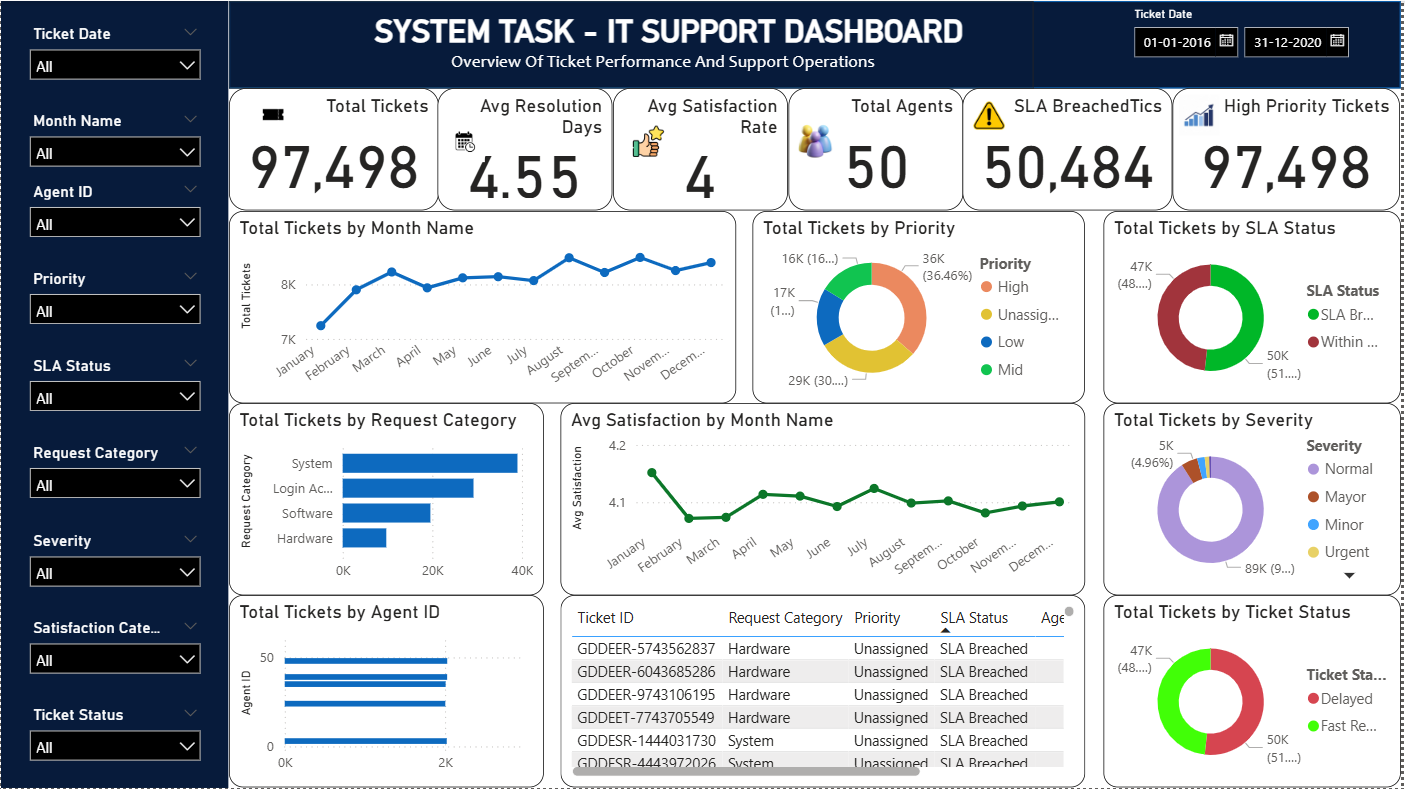

What the dashboard file says about the page in this screenshot:
{"tool":"powerbi","page":{"name":"Page 1","canvas":[1280,720],"ordinal":0},"visuals":[{"type":"shape","box":[208,0,1072,80],"z":0},{"type":"shape","box":[0,0,208,720],"z":1000},{"type":"card","title":"Total Tickets","fields":{"Values":["Tickets1.Total Tickets"]},"box":[208,80,192,112],"z":2000},{"type":"card","title":"Avg Resolution Days","fields":{"Values":["Tickets1.Avg Resolution Days"]},"box":[400,80,160,112],"z":3000},{"type":"card","title":"Avg Satisfaction Rate","fields":{"Values":["Tickets1.Avg Satisfaction"]},"box":[560,80,160,112],"z":4000},{"type":"card","title":"Total Agents","fields":{"Values":["Tickets1.Total Agents"]},"box":[720,80,160,112],"z":5000},{"type":"card","title":"SLA  BreachedTics","fields":{"Values":["Tickets1.SLA Breached Tickets"]},"box":[880,80,192,112],"z":6000},{"type":"lineChart","fields":{"Category":["Tickets1.Month Name"],"Y":["Tickets1.Total Tickets"]},"box":[208,192,464,176],"z":7000},{"type":"donutChart","fields":{"Y":["Tickets1.Total Tickets"],"Category":["Tickets1.Priority "]},"box":[688,192,304,176],"z":8000},{"type":"donutChart","fields":{"Category":["Tickets1.SLA Status"],"Y":["Tickets1.Total Tickets"]},"box":[1008,192,272,176],"z":9000},{"type":"clusteredBarChart","fields":{"Category":["Tickets1.Request Category"],"Y":["Tickets1.Total Tickets"]},"box":[208,368,288,176],"z":10000},{"type":"lineChart","fields":{"Category":["Tickets1.Month Name"],"Y":["Tickets1.Avg Satisfaction"]},"box":[512,368,480,176],"z":11000},{"type":"donutChart","fields":{"Category":["Tickets1.Severity"],"Y":["Tickets1.Total Tickets"]},"box":[1008,368,272,176],"z":12000},{"type":"donutChart","fields":{"Category":["Tickets1.Ticket Status"],"Y":["Tickets1.Total Tickets"]},"box":[1008,544,272,176],"z":13000},{"type":"tableEx","fields":{"Values":["Tickets1.Ticket ID","Tickets1.Request Category","Tickets1.Priority ","Tickets1.SLA Status","IT_Agents.Agent ID","Tickets1.Ticket Date.Variation.Date Hierarchy.Year","Tickets1.Ticket Date.Variation.Date Hierarchy.Month","Tickets1.Ticket Date.Variation.Date Hierarchy.Day"]},"box":[512,544,480,176],"z":14000},{"type":"card","title":"High Priority Tickets","fields":{"Values":["Tickets1.High Priority Tickets"]},"box":[1072,80,208,112],"z":15000},{"type":"slicer","fields":{"Values":["Tickets1.Ticket Date"]},"box":[16,16,176,64],"z":16000},{"type":"textbox","box":[208,0,736,80],"z":17000},{"type":"slicer","fields":{"Values":["Tickets1.Agent ID"]},"box":[16,160,176,64],"z":18000},{"type":"slicer","fields":{"Values":["Tickets1.Priority "]},"box":[16,240,176,64],"z":19000},{"type":"slicer","fields":{"Values":["Tickets1.SLA Status"]},"box":[16,320,176,64],"z":20000},{"type":"slicer","fields":{"Values":["Tickets1.Request Category"]},"box":[16,400,176,64],"z":21000},{"type":"slicer","fields":{"Values":["Tickets1.Severity"]},"box":[16,480,176,64],"z":22000},{"type":"slicer","fields":{"Values":["Tickets1.Satisfaction Category"]},"box":[16,560,176,64],"z":23000},{"type":"slicer","fields":{"Values":["Tickets1.Month Name"]},"box":[16,96,176,64],"z":24000},{"type":"slicer","fields":{"Values":["Tickets1.Ticket Date"]},"box":[1024,0,224,80],"z":25000},{"type":"slicer","fields":{"Values":["Tickets1.Ticket Status"]},"box":[16,640,176,64],"z":26000},{"type":"clusteredBarChart","fields":{"Y":["Tickets1.Total Tickets"],"Category":["Tickets1.Agent ID"]},"box":[208,544,288,176],"z":27000},{"type":"image","box":[400,96,48,64],"z":28000},{"type":"image","box":[560,96,64,64],"z":29000},{"type":"image","box":[720,96,48,64],"z":30000},{"type":"image","box":[880,64,48,80],"z":31000},{"type":"image","box":[1072,80,48,48],"z":32000},{"type":"image","box":[208,80,80,48],"z":33000}]}

Visuals, with their boxes in screenshot pixels (x1, y1, x2, y2), scaled from the page's 1280x720 canvas onto the 1405x789 screenshot:
shape: (x1=228, y1=0, x2=1404, y2=88)
shape: (x1=0, y1=0, x2=228, y2=788)
"Total Tickets" card: (x1=228, y1=88, x2=439, y2=210)
"Avg Resolution Days" card: (x1=439, y1=88, x2=615, y2=210)
"Avg Satisfaction Rate" card: (x1=615, y1=88, x2=790, y2=210)
"Total Agents" card: (x1=790, y1=88, x2=966, y2=210)
"SLA  BreachedTics" card: (x1=966, y1=88, x2=1177, y2=210)
lineChart - Tickets1.Month Name x Tickets1.Total Tickets: (x1=228, y1=210, x2=738, y2=403)
donutChart - Tickets1.Total Tickets x Tickets1.Priority : (x1=755, y1=210, x2=1089, y2=403)
donutChart - Tickets1.SLA Status x Tickets1.Total Tickets: (x1=1106, y1=210, x2=1404, y2=403)
clusteredBarChart - Tickets1.Request Category x Tickets1.Total Tickets: (x1=228, y1=403, x2=544, y2=596)
lineChart - Tickets1.Month Name x Tickets1.Avg Satisfaction: (x1=562, y1=403, x2=1089, y2=596)
donutChart - Tickets1.Severity x Tickets1.Total Tickets: (x1=1106, y1=403, x2=1404, y2=596)
donutChart - Tickets1.Ticket Status x Tickets1.Total Tickets: (x1=1106, y1=596, x2=1404, y2=788)
tableEx - Tickets1.Ticket ID x Tickets1.Request Category: (x1=562, y1=596, x2=1089, y2=788)
"High Priority Tickets" card: (x1=1177, y1=88, x2=1404, y2=210)
slicer - Tickets1.Ticket Date: (x1=18, y1=18, x2=211, y2=88)
textbox: (x1=228, y1=0, x2=1036, y2=88)
slicer - Tickets1.Agent ID: (x1=18, y1=175, x2=211, y2=245)
slicer - Tickets1.Priority : (x1=18, y1=263, x2=211, y2=333)
slicer - Tickets1.SLA Status: (x1=18, y1=351, x2=211, y2=421)
slicer - Tickets1.Request Category: (x1=18, y1=438, x2=211, y2=508)
slicer - Tickets1.Severity: (x1=18, y1=526, x2=211, y2=596)
slicer - Tickets1.Satisfaction Category: (x1=18, y1=614, x2=211, y2=684)
slicer - Tickets1.Month Name: (x1=18, y1=105, x2=211, y2=175)
slicer - Tickets1.Ticket Date: (x1=1124, y1=0, x2=1370, y2=88)
slicer - Tickets1.Ticket Status: (x1=18, y1=701, x2=211, y2=771)
clusteredBarChart - Tickets1.Total Tickets x Tickets1.Agent ID: (x1=228, y1=596, x2=544, y2=788)
image: (x1=439, y1=105, x2=492, y2=175)
image: (x1=615, y1=105, x2=685, y2=175)
image: (x1=790, y1=105, x2=843, y2=175)
image: (x1=966, y1=70, x2=1019, y2=158)
image: (x1=1177, y1=88, x2=1229, y2=140)
image: (x1=228, y1=88, x2=316, y2=140)
